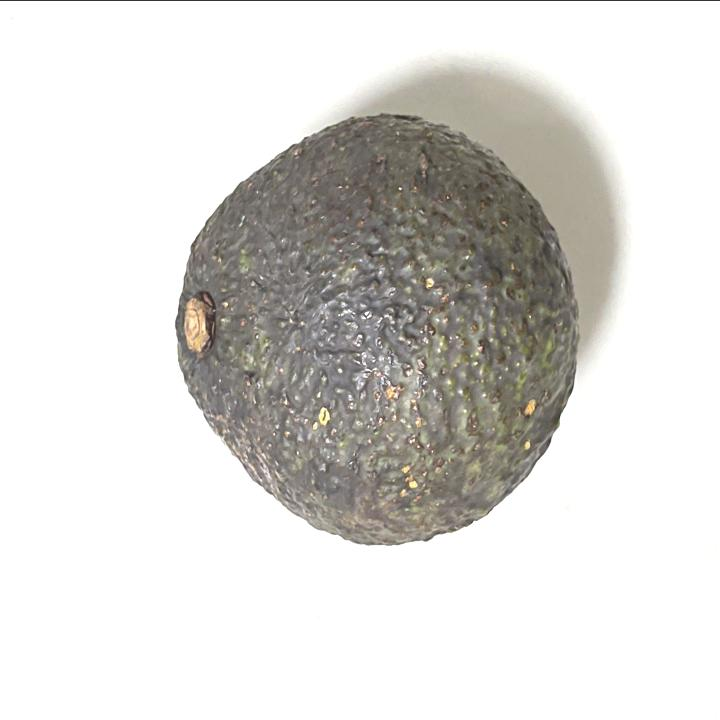Level1: (163, 105, 590, 557)
